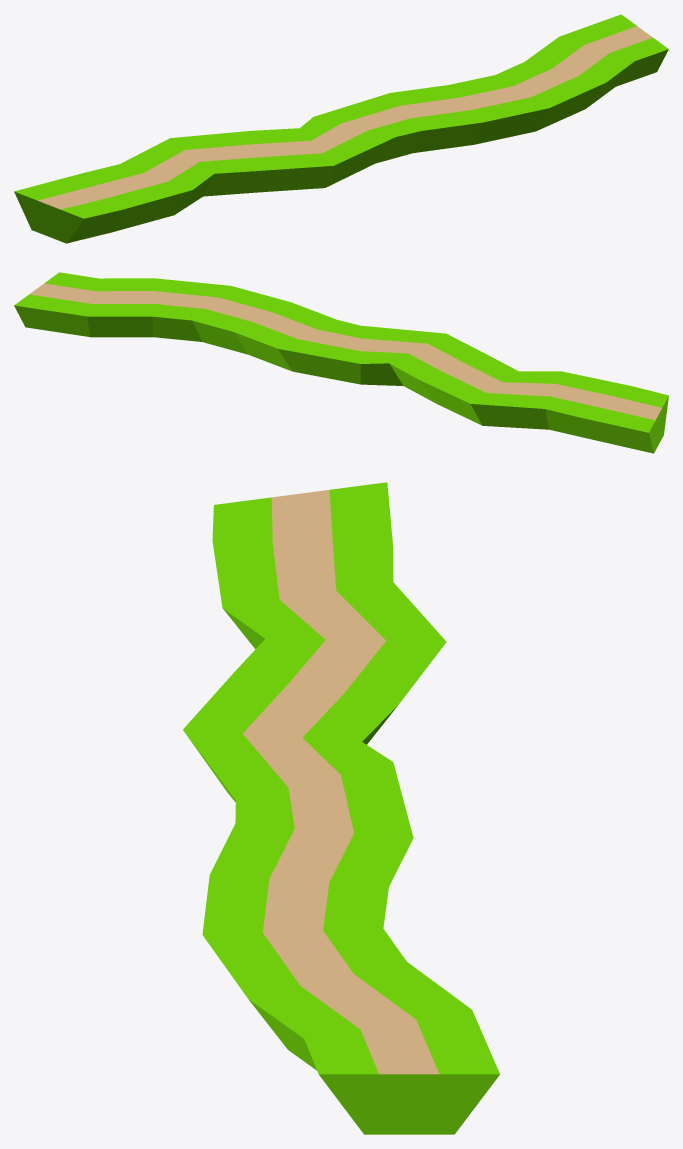
The model's file is ground.glb.
The picture shows the model from 3 angles, top to bottom: view 1: azimuth 30°, elevation 25°; view 2: azimuth 150°, elevation 25°; view 3: azimuth 270°, elevation 25°; orthographic projection. The views are drawn at different scales.
Visible parts, largest first — view 1: Ground; view 2: Ground; view 3: Ground.
Part boxes in pixels (<box>): Ground: <box>14,14,668,243</box>; Ground: <box>14,272,668,453</box>; Ground: <box>183,482,499,1134</box>.
Bounding box in the file's own units: 7.81 × 0.3711 × 1.77.
